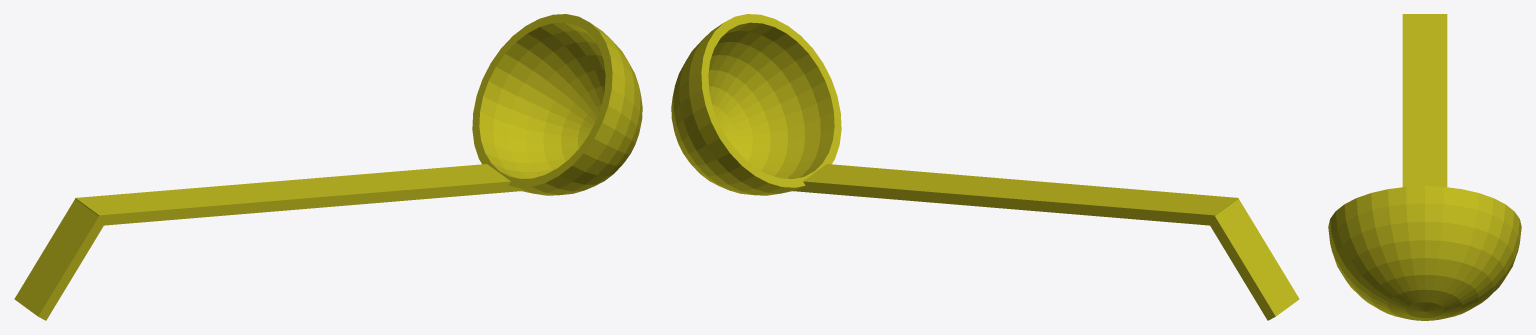
3 renders of one model, left to right at view 1: azimuth 30°, elevation 25°; view 2: azimuth 150°, elevation 25°; view 3: azimuth 270°, elevation 25°, orthographic. The views are drawn at different scales.
Parts seen in each view (by area): view 1: Spoon Yellow; view 2: Spoon Yellow; view 3: Spoon Yellow.
Boxes of the visible parts, x1=… form: Spoon Yellow: x1=14, y1=14, x2=642, y2=320; Spoon Yellow: x1=671, y1=14, x2=1299, y2=320; Spoon Yellow: x1=1328, y1=14, x2=1521, y2=320.
Bounding box in the file's own units: 0.3845 × 0.1143 × 0.0941.
